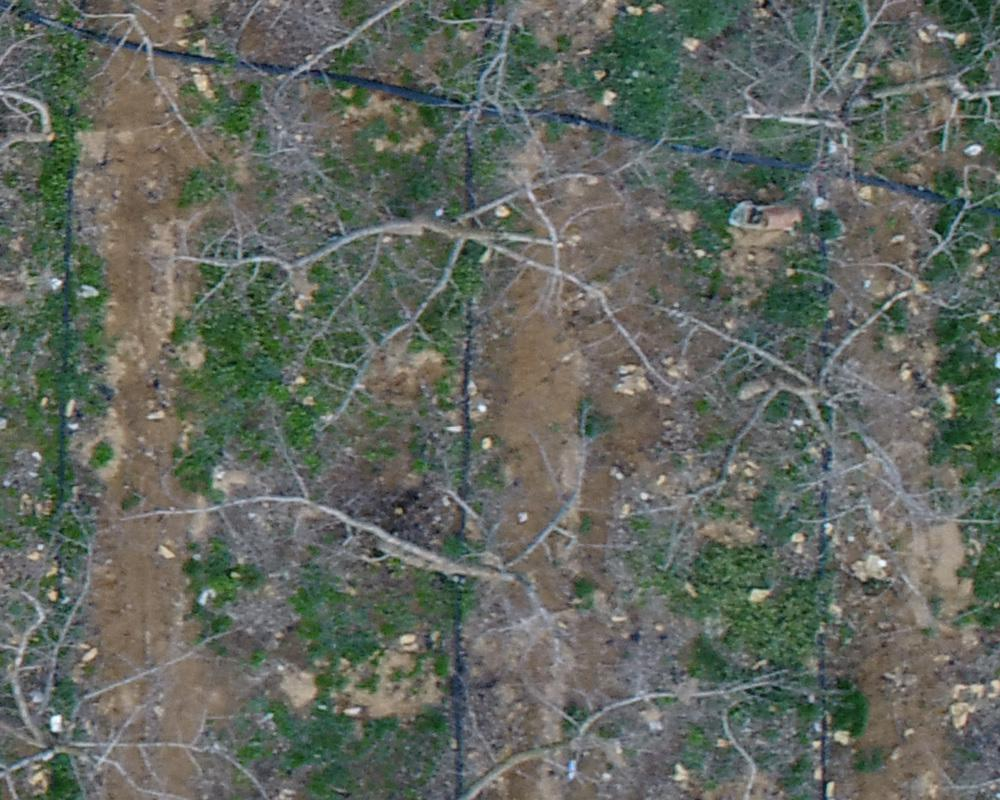apple: (157, 124, 704, 421), (132, 408, 660, 675), (635, 181, 990, 563), (10, 499, 290, 790), (178, 10, 796, 136), (684, 10, 990, 198)
